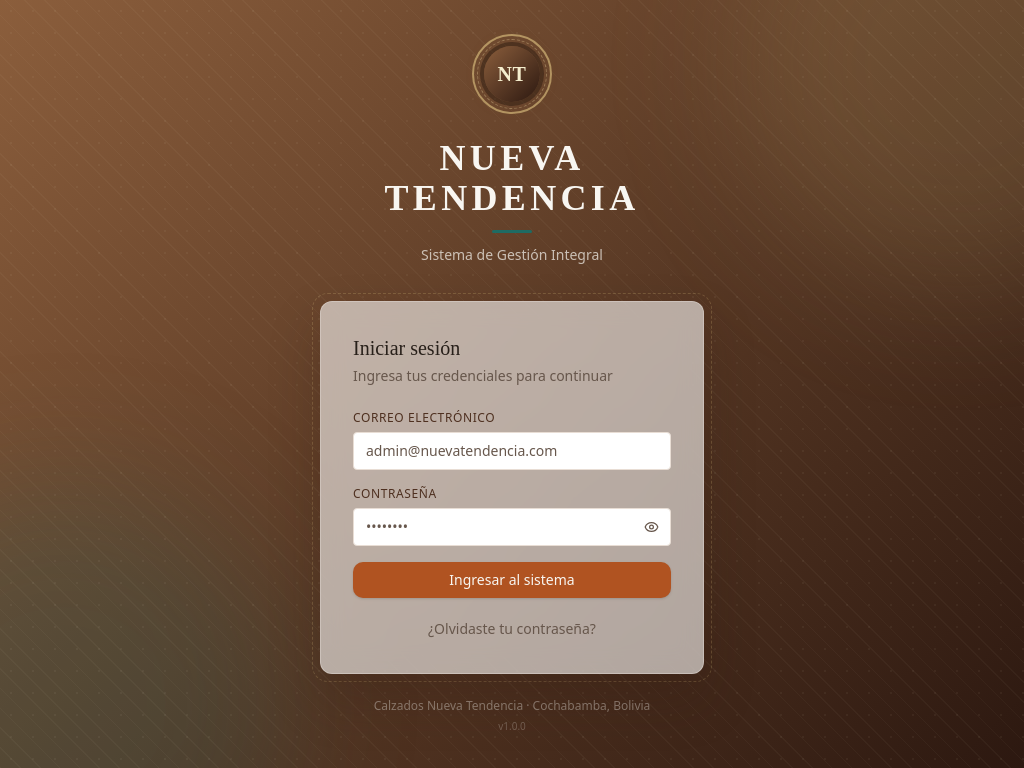
LoginView › muestra errores de validación cuando se envía el formulario vacío
This screenshot has width=1024, height=768.
Click the button "Ingresar al sistema": [512, 580] box [353, 562, 671, 598]
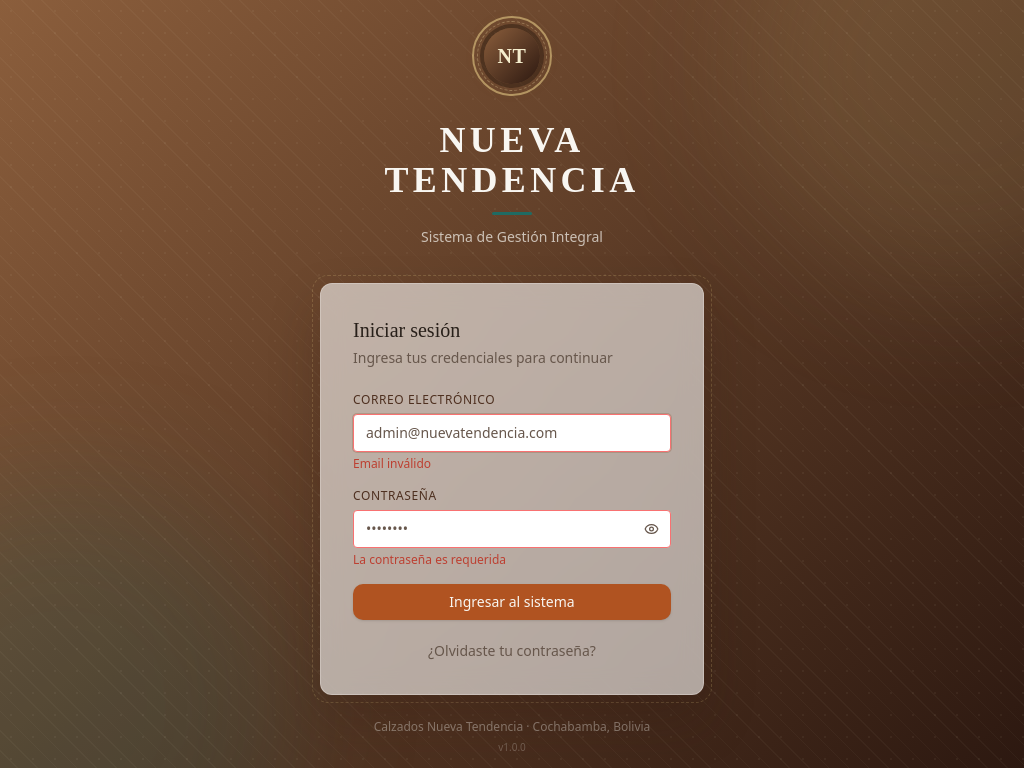
Now the text "Email inválido" is shown, box [353, 455, 431, 472]
Now the text "La contraseña es requerida" is shown, box [353, 551, 506, 568]
